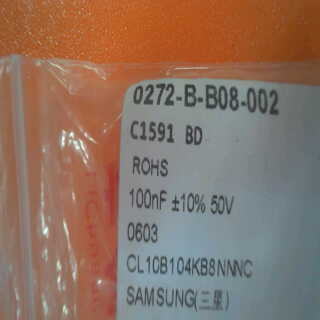100nF: (125, 187, 169, 213)
